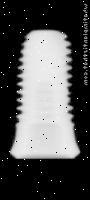Osstem Implant: (10, 29, 80, 159)
